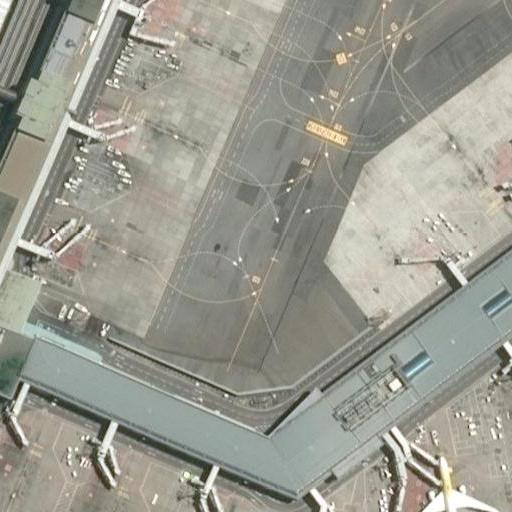Aircraft: (396, 455, 496, 512), (158, 506, 253, 512)
